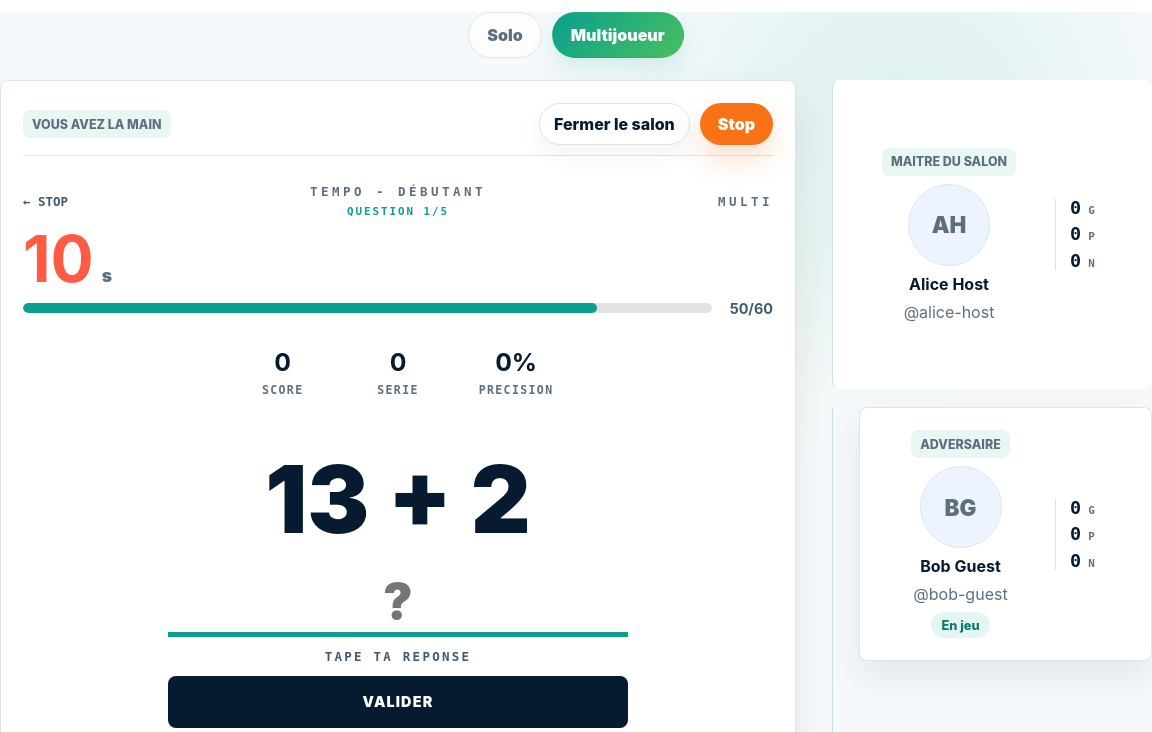
Test: MultiplayerGamePage finalization › applique la progression canonique apres une issue Socket inconnue
The width and height of the screenshot is (1152, 732).
Type "7" into the field named "Votre reponse" at (398, 603), box 168,570 -> 628,637
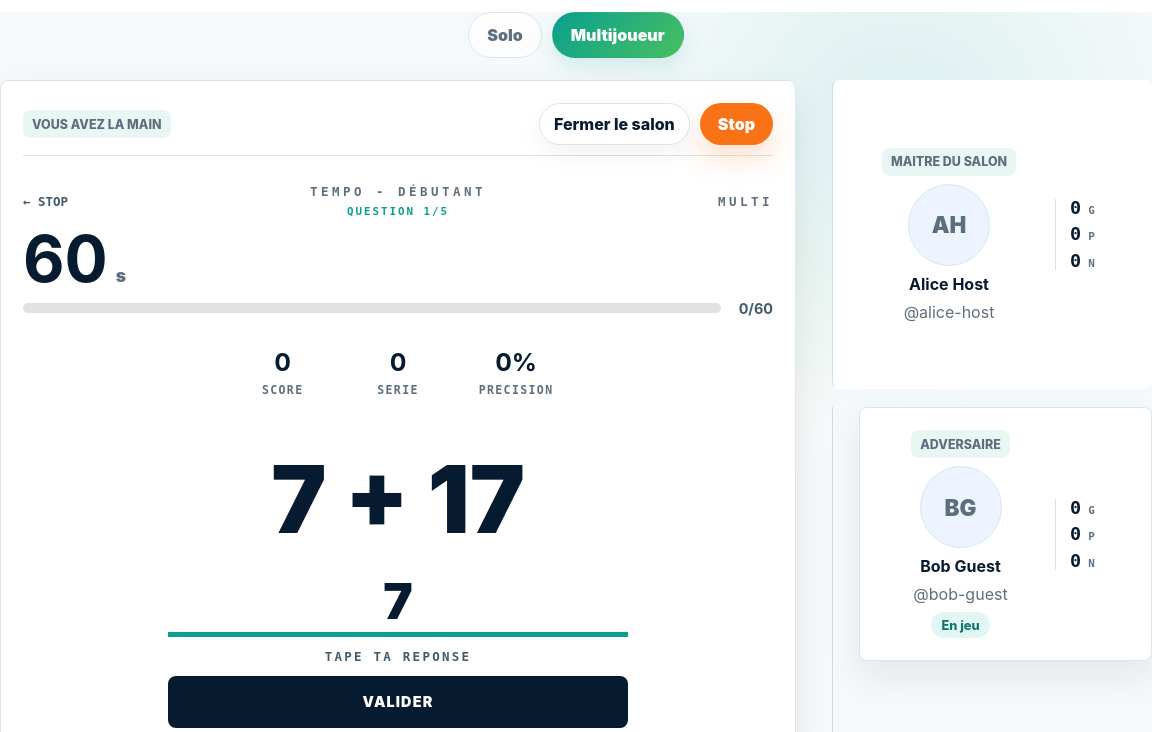
Click the button "Valider" at (398, 702), box 168,676 -> 628,728
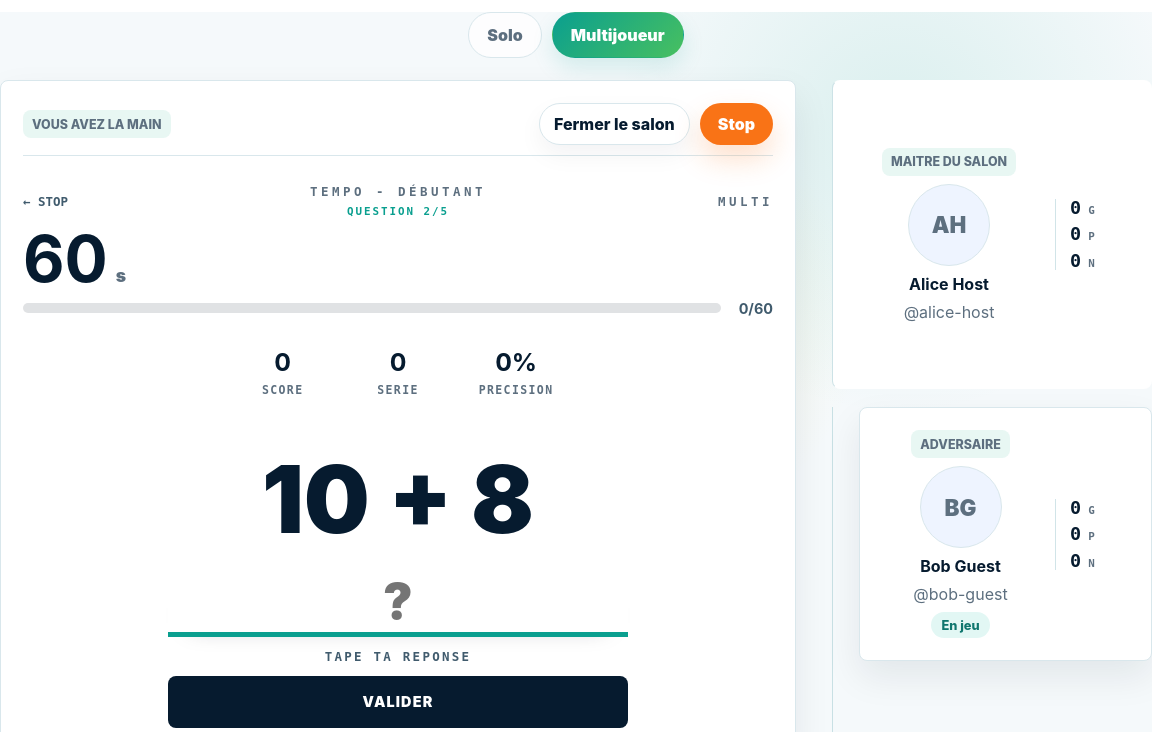
Result: the text "Question 2/5" is shown at 347,205 -> 449,218
